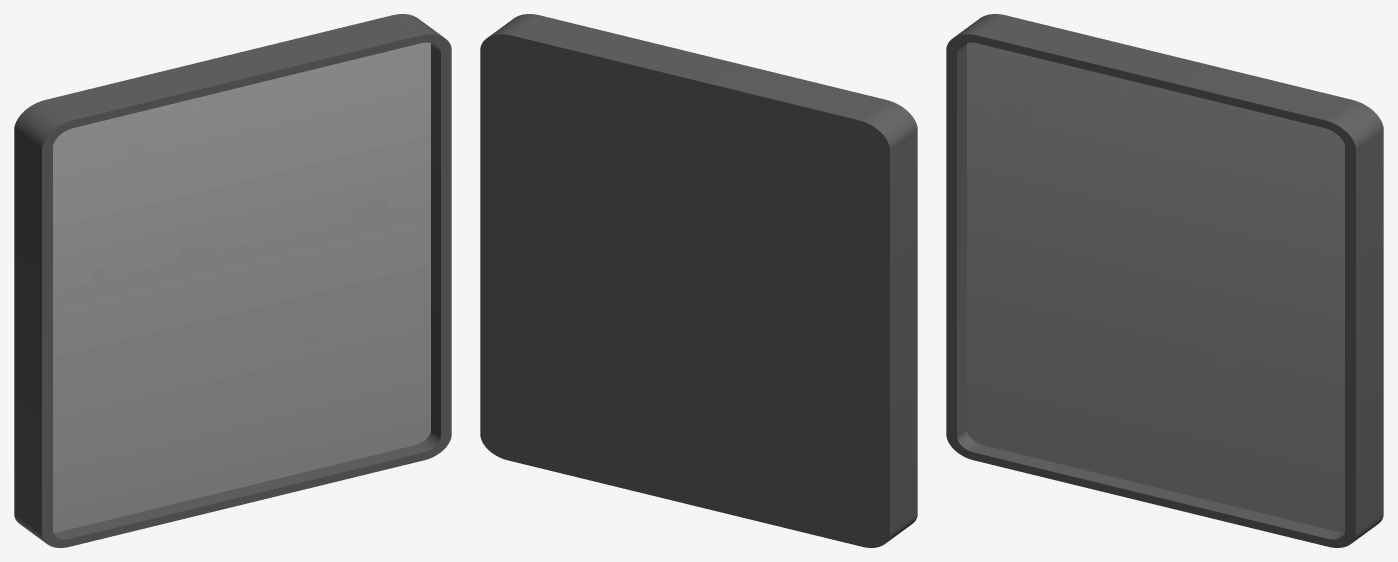
File: mirror 2.glb
The picture shows the model from 3 angles, left to right: view 1: azimuth 30°, elevation 25°; view 2: azimuth 150°, elevation 25°; view 3: azimuth 330°, elevation 25°; orthographic projection.
Parts seen in each view (by area): view 1: mirror, frame; view 2: frame; view 3: mirror, frame.
Boxes of the visible parts, <box> form: mirror: <box>53,42,430,532</box>; frame: <box>14,14,451,547</box>; frame: <box>480,14,917,547</box>; mirror: <box>967,42,1344,532</box>; frame: <box>946,14,1383,547</box>.
Size of the model in its own units: 41.5 by 41.19 by 4.87.
2 materials, 1 textured.
